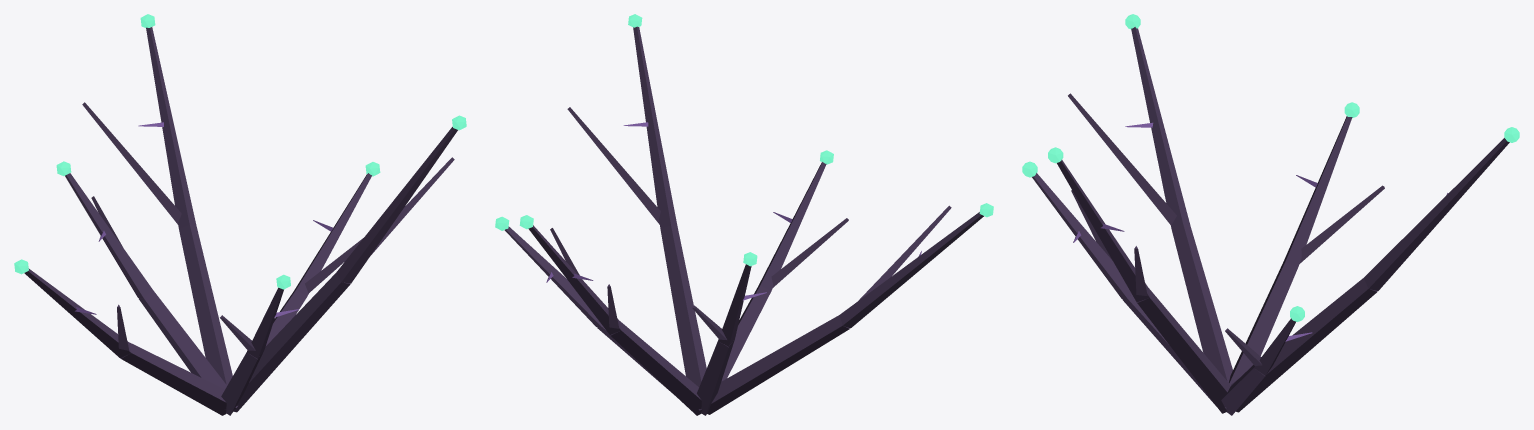
The model's file is exo-flora-thorn.glb.
3 renders of one model, left to right at view 1: azimuth 30°, elevation 25°; view 2: azimuth 150°, elevation 25°; view 3: azimuth 270°, elevation 25°, orthographic. The views are drawn at different scales.
Visible parts, largest first — view 1: body; view 2: body; view 3: body.
Part boxes in pixels (x1,y1,x2,y2): body: (14, 14, 466, 415); body: (495, 14, 993, 415); body: (1022, 14, 1519, 415).
Size of the model in its own units: 2.45 by 1.7 by 2.22.
